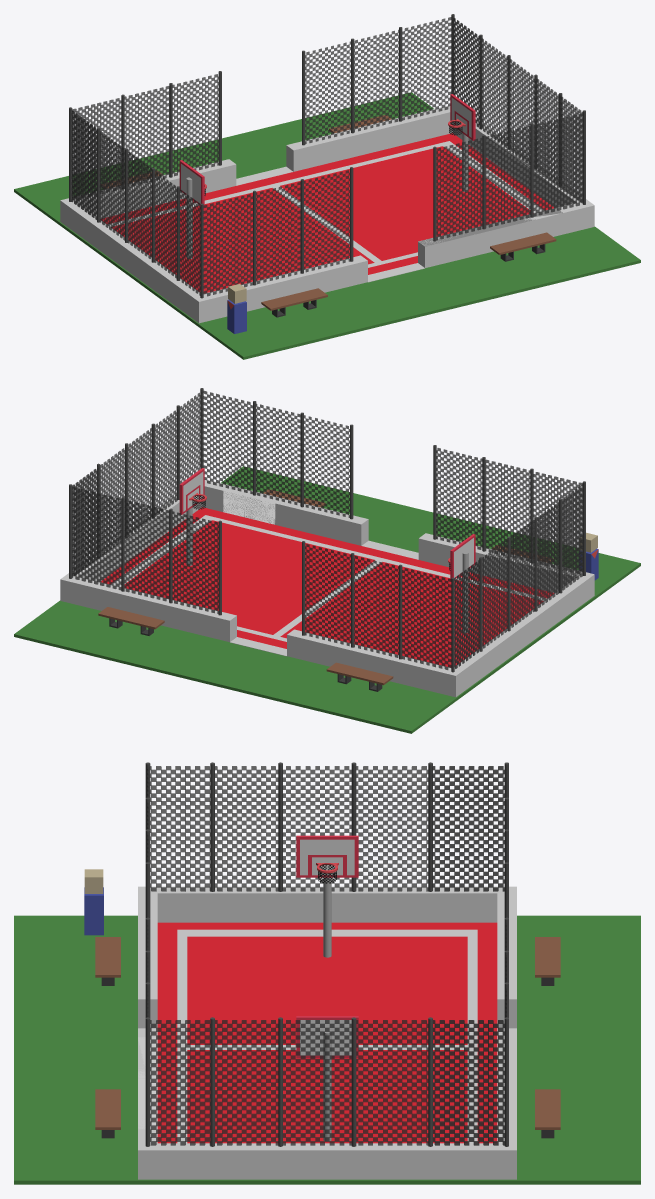
Rendered from campobasquete.fbx.
3 views of the same model, one above another, from view 1: azimuth 30°, elevation 25°; view 2: azimuth 150°, elevation 25°; view 3: azimuth 270°, elevation 25° (orthographic). The views are drawn at different scales.
Parts seen in each view (by area): view 1: Cube.001, Plane.006, Cube.002, Cylinder.001, Cylinder.002, Cube, Cube.007, Cube.004; view 2: Cube.001, Plane.006, Cube.002, Cylinder.001, Cylinder.002, Cube.013, Cube.010, Cube; view 3: Cube.001, Cube.002, Plane.006, Cylinder.001, Cylinder.002, Cube, Cube.004, Cube.007, Cube.010, Cube.013.
Part boxes in pixels (x1=…): Cube.001: x1=60, y1=105, x2=594, y2=323; Plane.006: x1=71, y1=17, x2=582, y2=296; Cube.002: x1=14, y1=92, x2=640, y2=359; Cylinder.001: x1=69, y1=14, x2=585, y2=298; Cylinder.002: x1=179, y1=94, x2=475, y2=258; Cube: x1=227, y1=284, x2=246, y2=333; Cube.007: x1=490, y1=232, x2=556, y2=254; Cube.004: x1=261, y1=288, x2=327, y2=310; Cube.001: x1=60, y1=479, x2=594, y2=697; Plane.006: x1=72, y1=390, x2=583, y2=669; Cube.002: x1=14, y1=466, x2=640, y2=733; Cylinder.001: x1=69, y1=388, x2=585, y2=672; Cylinder.002: x1=179, y1=468, x2=475, y2=632; Cube.013: x1=326, y1=662, x2=393, y2=685; Cube.010: x1=98, y1=607, x2=164, y2=629; Cube: x1=579, y1=532, x2=598, y2=580; Cube.001: x1=138, y1=886, x2=516, y2=1179; Cube.002: x1=14, y1=915, x2=640, y2=1184; Plane.006: x1=147, y1=766, x2=506, y2=1145; Cylinder.001: x1=145, y1=762, x2=508, y2=1146; Cylinder.002: x1=296, y1=835, x2=358, y2=1140; Cube: x1=84, y1=869, x2=103, y2=935; Cube.004: x1=95, y1=937, x2=120, y2=977; Cube.007: x1=95, y1=1089, x2=120, y2=1129; Cube.010: x1=535, y1=1089, x2=560, y2=1129; Cube.013: x1=535, y1=937, x2=560, y2=977.
Size of the model in its own units: 55.14 by 17.4 by 55.14.
